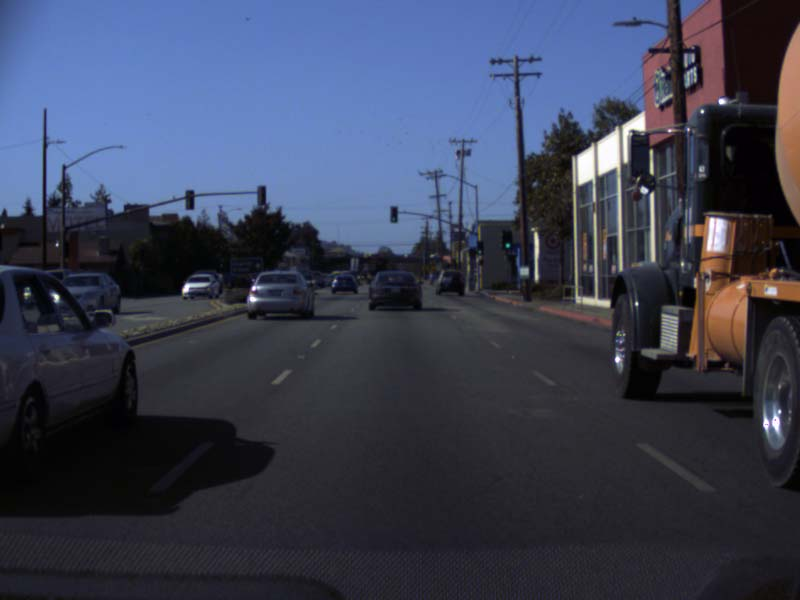Green: (502, 230, 512, 249), (389, 205, 396, 222), (477, 241, 483, 254)
